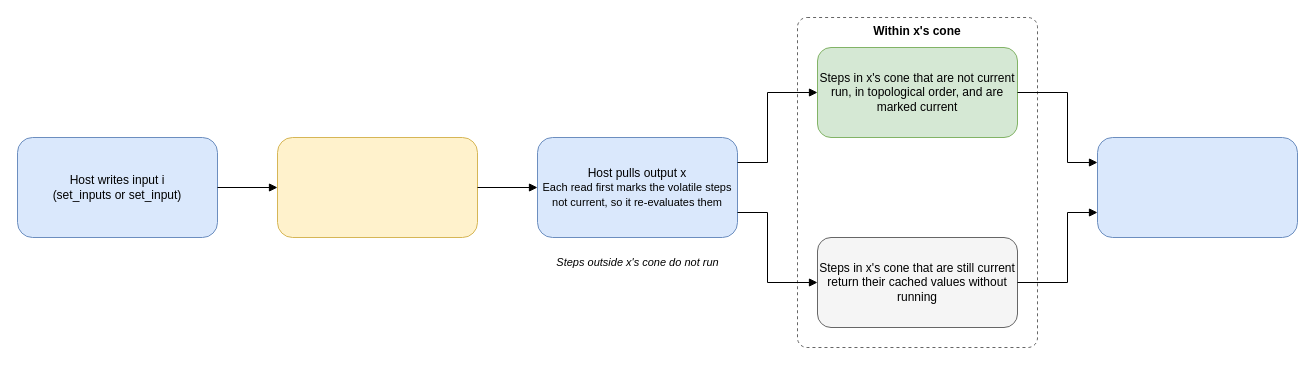
The diagram is 1315 pixels wide and 365 high, and some of its shapes have lost their labels. The centre of each missing label's shape, as x and y in pixels:
Only the steps whose provenance includes input i are marked not current: pixel 377 187
The pull returns the value of x: pixel 1197 187
